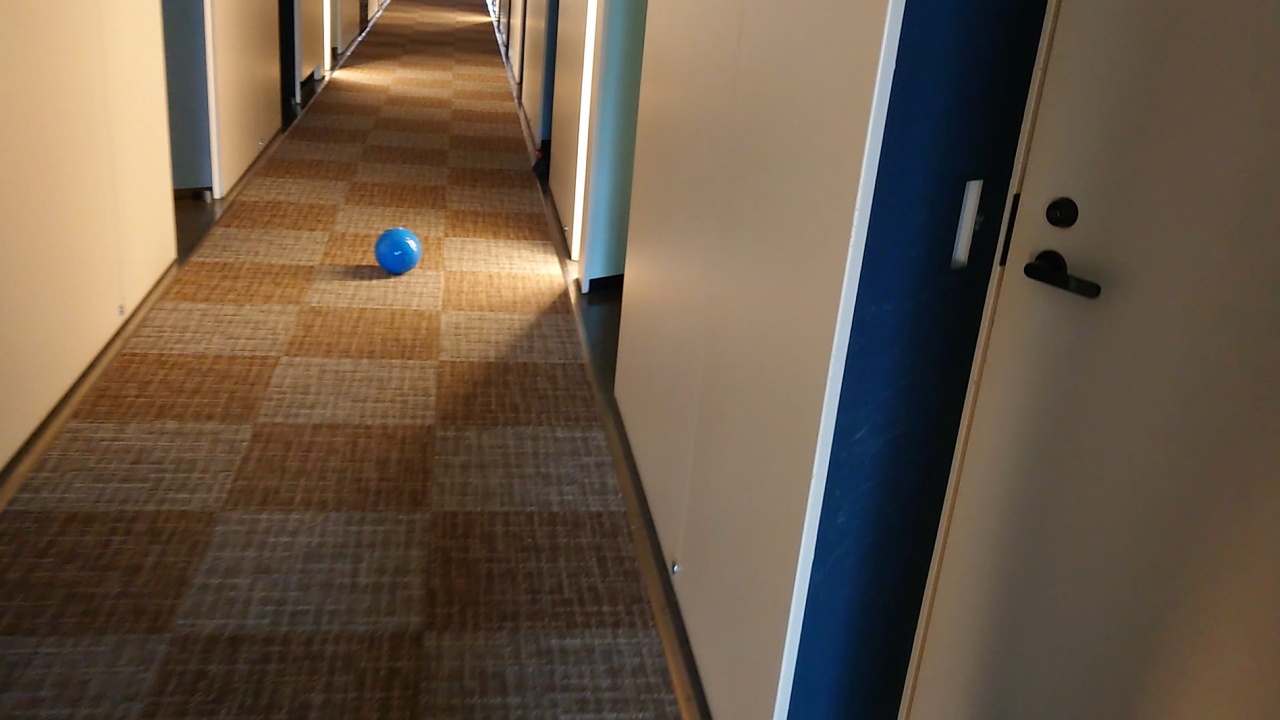BlueBall: (371, 223, 422, 273)
